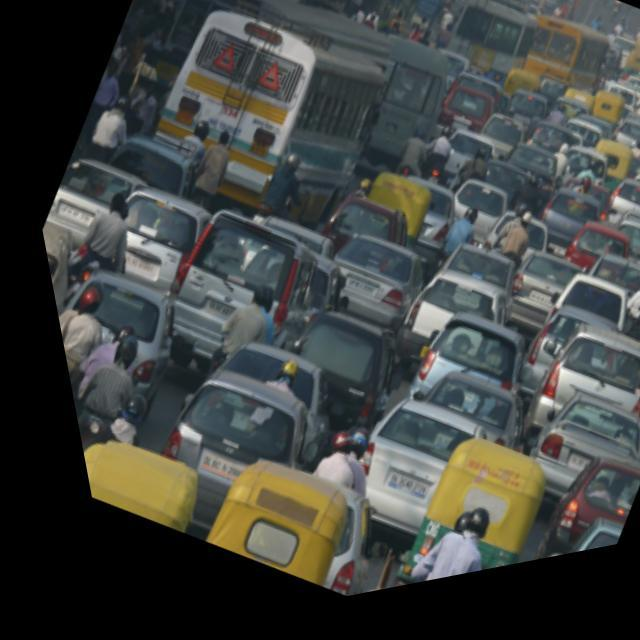license_plate: (360, 472, 411, 518), (176, 451, 226, 495), (108, 248, 154, 286), (185, 295, 226, 334)
